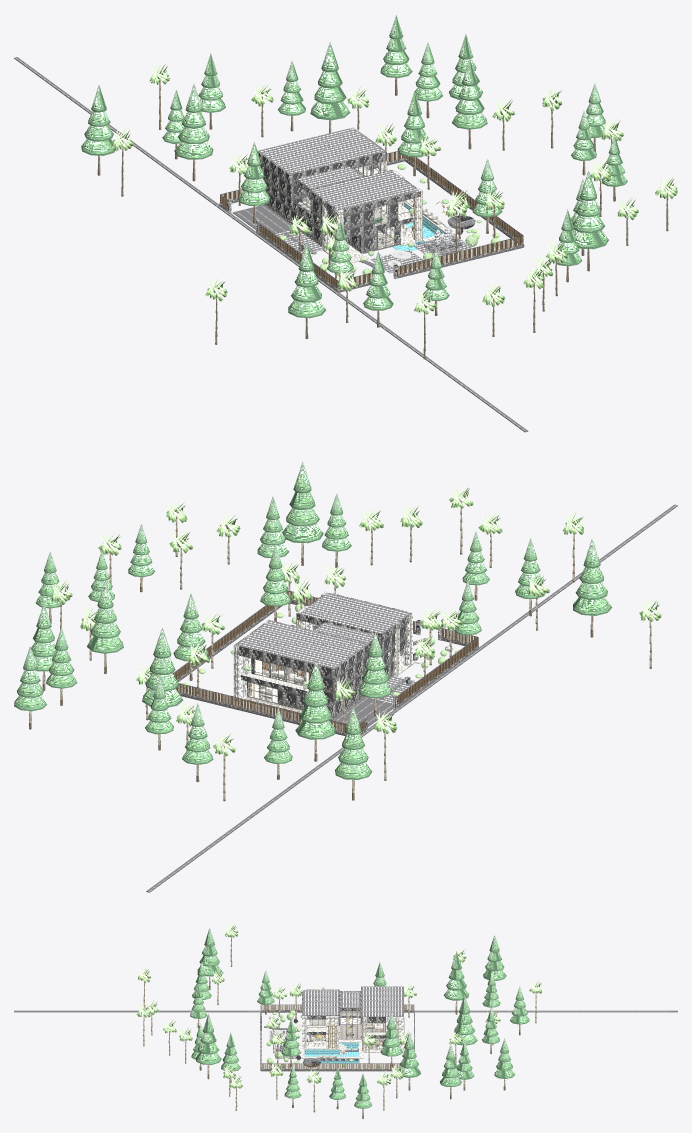
The model's file is chloe-baked.glb.
3 renders of one model, top to bottom at view 1: azimuth 30°, elevation 25°; view 2: azimuth 150°, elevation 25°; view 3: azimuth 270°, elevation 25°, orthographic. The views are drawn at different scales.
Parts seen in each view (by area): view 1: pine, stone, palm, gravelD, trunk, paver, fence, marbleG, marbleW, frame, marbleB; view 2: pine, palm, stone, gravelD, trunk, paver, fence, marbleG, frame; view 3: pine, palm, gravelD, trunk, stone, paver, fence, marbleG, marbleW, tile, frame, mosaic.
Boxes of the visible parts, bbox=[...] form: pine: bbox=[81, 15, 627, 318]; stone: bbox=[219, 128, 524, 292]; palm: bbox=[111, 62, 677, 314]; gravelD: bbox=[259, 128, 471, 273]; trunk: bbox=[97, 78, 668, 359]; paver: bbox=[14, 57, 528, 432]; fence: bbox=[220, 151, 523, 289]; marbleG: bbox=[306, 127, 422, 251]; marbleW: bbox=[303, 167, 455, 263]; frame: bbox=[220, 151, 523, 281]; marbleB: bbox=[227, 198, 462, 279]; pine: bbox=[14, 461, 611, 779]; palm: bbox=[51, 484, 661, 756]; stone: bbox=[177, 592, 478, 736]; gravelD: bbox=[237, 593, 416, 703]; trunk: bbox=[29, 500, 651, 801]; paver: bbox=[146, 504, 677, 892]; fence: bbox=[173, 591, 478, 732]; marbleG: bbox=[233, 591, 412, 700]; frame: bbox=[173, 590, 477, 724]; pine: bbox=[190, 928, 529, 1108]; palm: bbox=[136, 922, 542, 1088]; gravelD: bbox=[269, 986, 402, 1058]; trunk: bbox=[143, 931, 536, 1118]; stone: bbox=[260, 986, 414, 1071]; paver: bbox=[14, 1010, 677, 1029]; fence: bbox=[260, 1005, 413, 1069]; marbleG: bbox=[302, 989, 403, 1051]; marbleW: bbox=[295, 1020, 403, 1058]; tile: bbox=[308, 1011, 385, 1048]; frame: bbox=[260, 1004, 414, 1063]; mosaic: bbox=[303, 1043, 359, 1063].
Bounding box in the file's own units: 90.73 × 19.02 × 160.
Materials: 39 (1 with a texture image).
